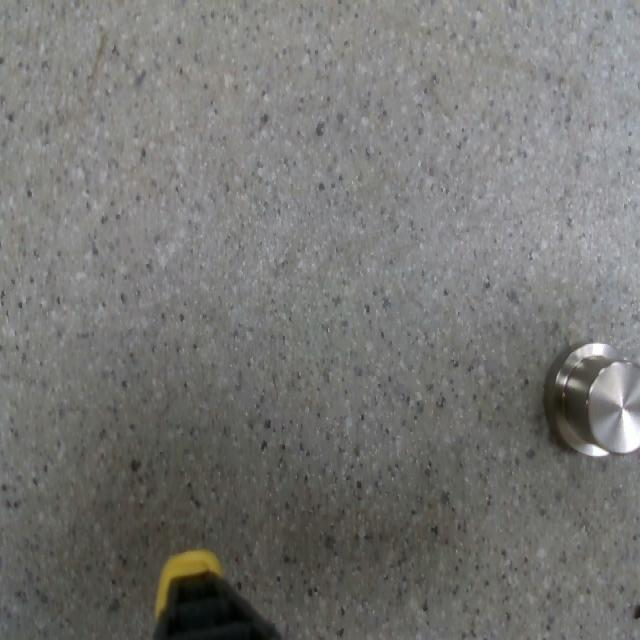sensor: (544, 341, 640, 459)
